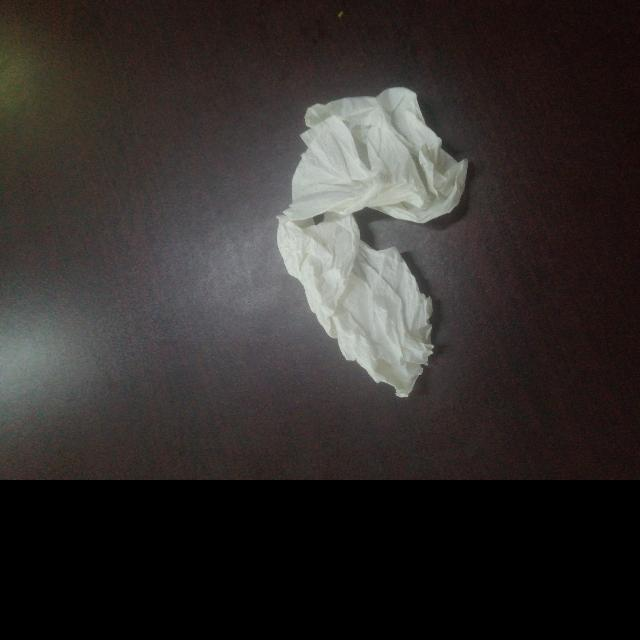kitchen paper: (270, 93, 475, 401)
